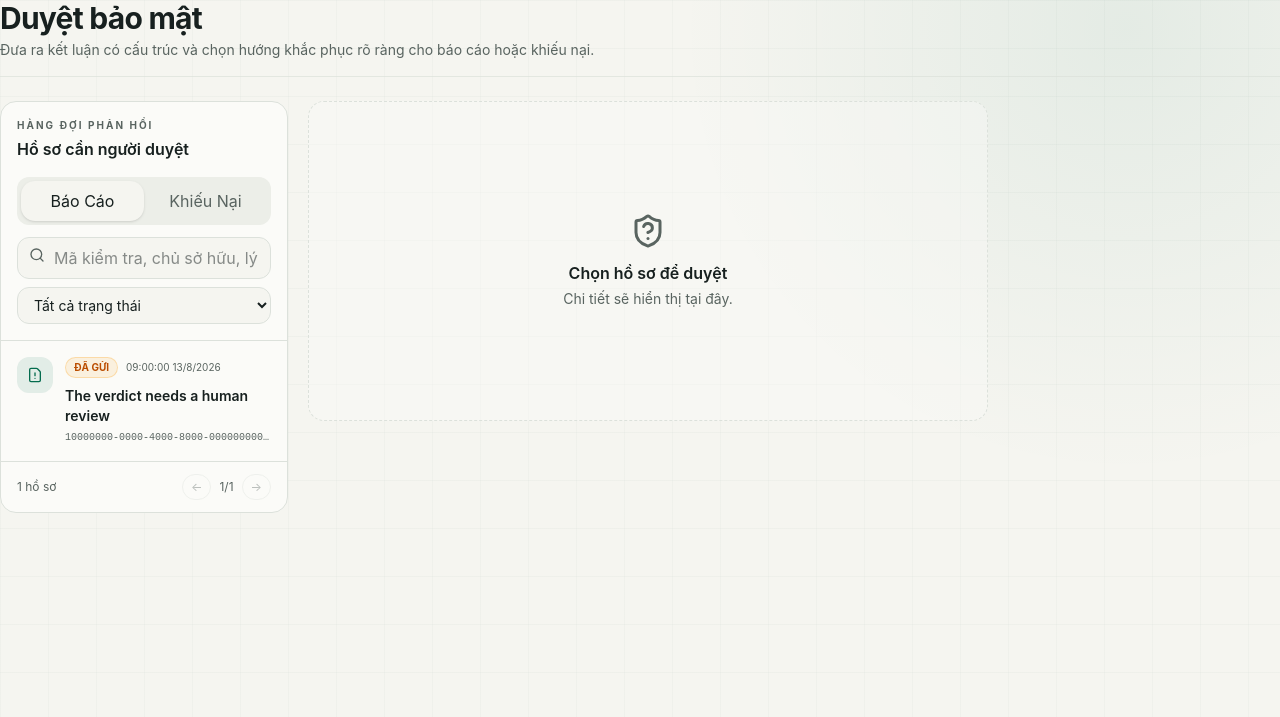
it: FE7 Security Review Room › presents a 409 as a terminal concurrency conflict and reloads the queue
The image size is (1280, 717).
Click the button "The verdict needs a human review": click(144, 401) [1,341,287,461]
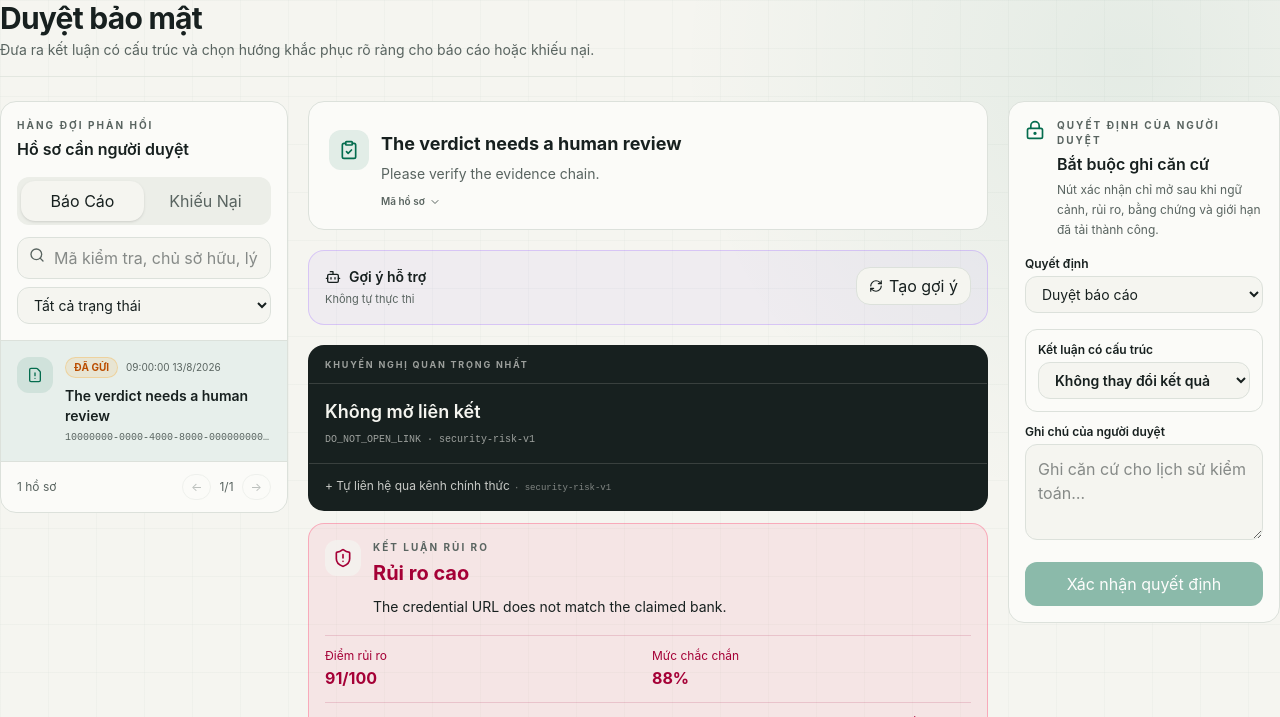
Expected: the heading "Rủi ro cao" is shown, [373,561,469,585]
In the text box labelled "Ghi chú của người duyệt": (1144, 492) [1025,444,1263,540], type "My review note"
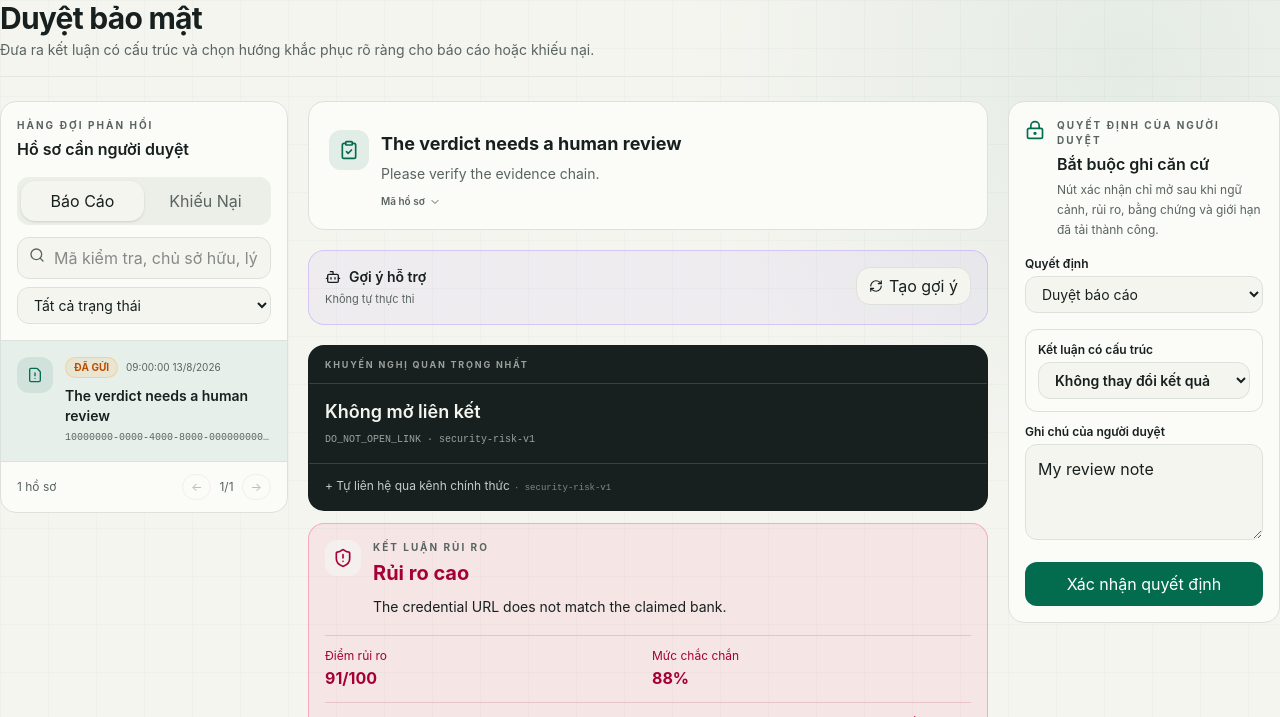
Click the button "Xác nhận quyết định": click(1144, 584) [1025,562,1263,606]
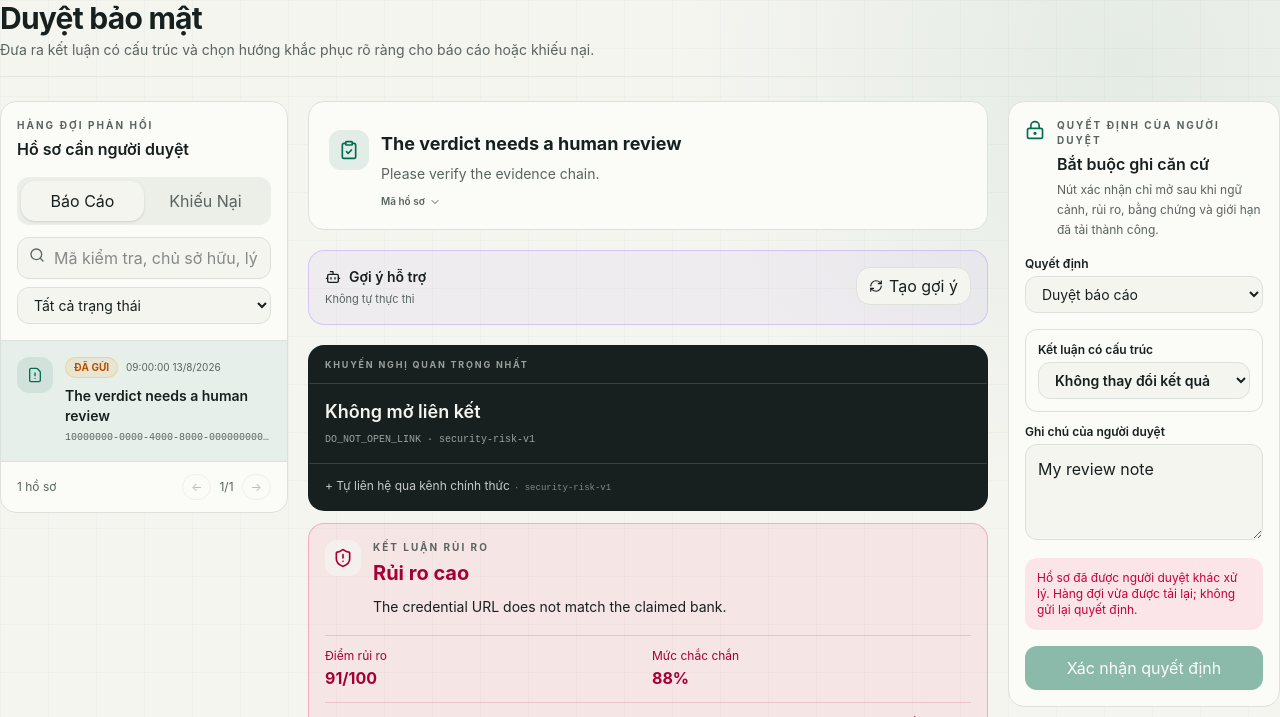
Expected: the message shows "người duyệt khác xử lý", [1037,570,1237,617]
Expected: the button "Xác nhận quyết định" is disabled, [1025,646,1263,690]
